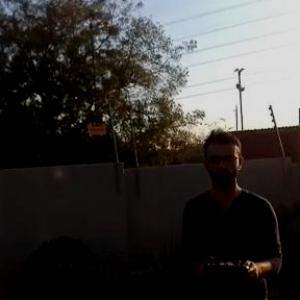follow: (179, 121, 290, 299)
